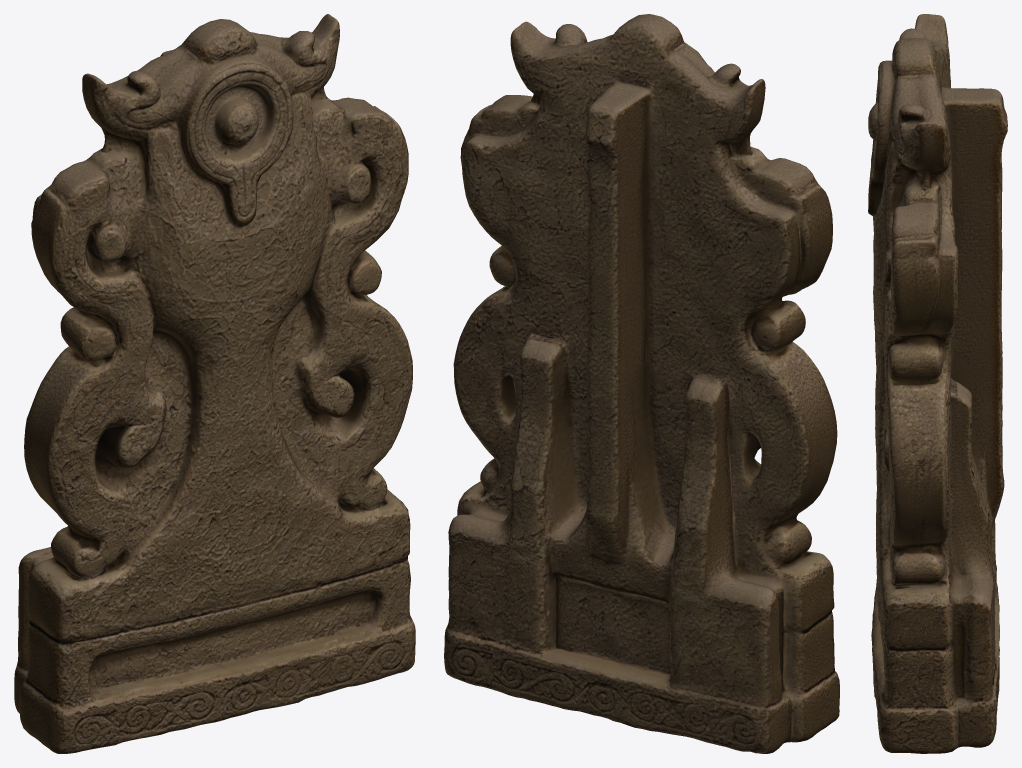
The model's file is stone_sculpture_prop_3d_model.fbx.
3 views of the same model, side by side, from view 1: azimuth 30°, elevation 25°; view 2: azimuth 150°, elevation 25°; view 3: azimuth 270°, elevation 25° (orthographic). The views are drawn at different scales.
Visible parts, largest first — view 1: tripo_node_346d620e; view 2: tripo_node_346d620e; view 3: tripo_node_346d620e.
Part boxes in pixels (x1=…): tripo_node_346d620e: x1=14, y1=14, x2=415, y2=753; tripo_node_346d620e: x1=444, y1=14, x2=839, y2=753; tripo_node_346d620e: x1=868, y1=14, x2=1007, y2=753.
Size of the model in its own units: 0.5506 by 0.9787 by 0.1959.
